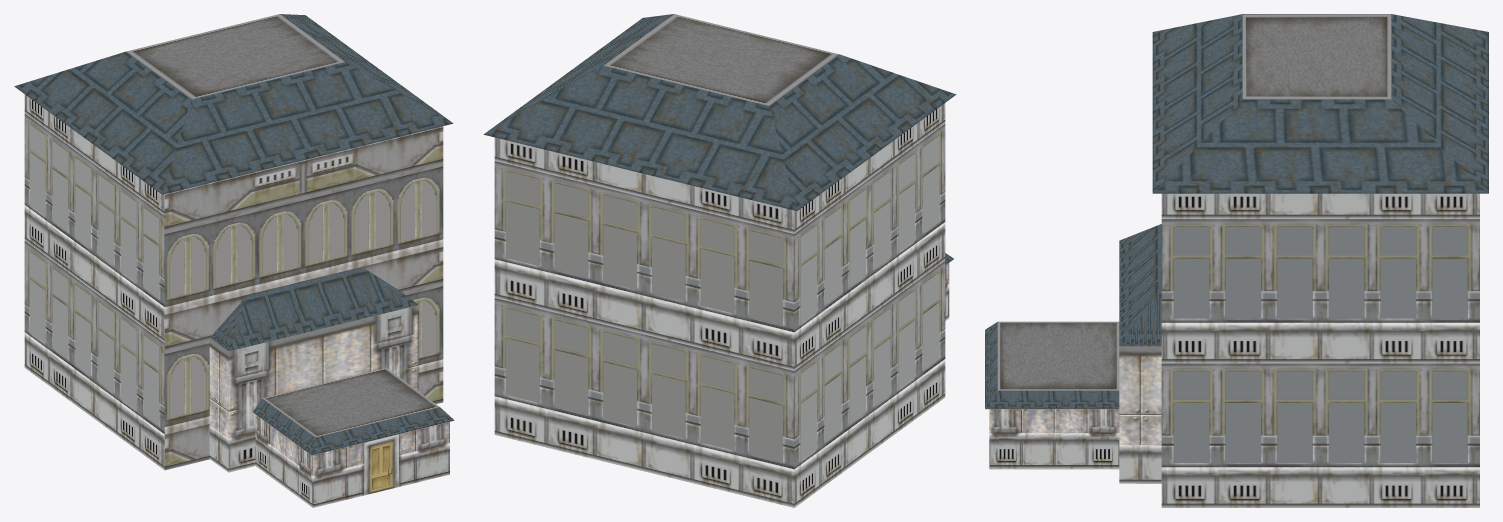
File: s_main_rightwing.glb
The picture shows the model from 3 angles, left to right: view 1: azimuth 30°, elevation 25°; view 2: azimuth 150°, elevation 25°; view 3: azimuth 270°, elevation 25°; orthographic projection. The views are drawn at different scales.
Parts seen in each view (by area): view 1: S_HC_Rightwing, LitWin_S_Main_Rightwing; view 2: S_HC_Rightwing, LitWin_S_Main_Rightwing; view 3: S_HC_Rightwing, LitWin_S_Main_Rightwing.
Boxes of the visible parts, bbox=[...] form: S_HC_Rightwing: bbox=[14, 14, 454, 507]; LitWin_S_Main_Rightwing: bbox=[30, 124, 436, 425]; S_HC_Rightwing: bbox=[483, 14, 956, 507]; LitWin_S_Main_Rightwing: bbox=[506, 135, 939, 461]; S_HC_Rightwing: bbox=[985, 14, 1488, 507]; LitWin_S_Main_Rightwing: bbox=[1174, 227, 1467, 462].
Bounding box in the file's own units: 16.3 × 17.6 × 21.48.
Materials: 5 (5 with a texture image).
